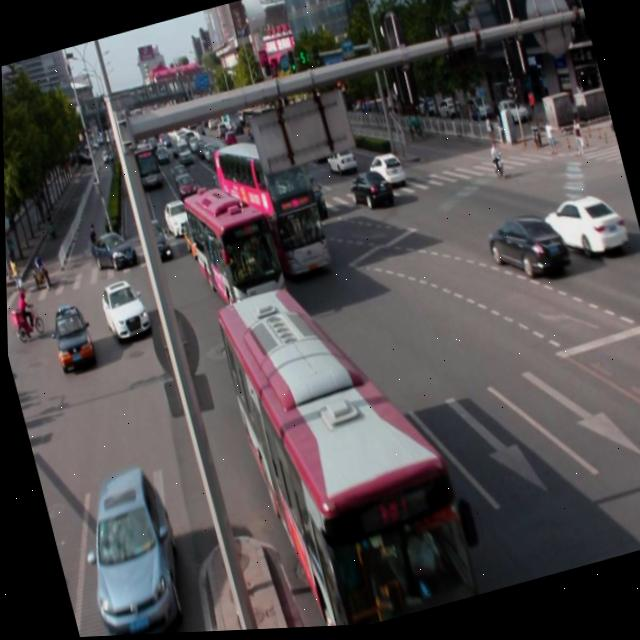car: (66, 462, 194, 638), (480, 208, 569, 292), (537, 191, 627, 271), (96, 275, 151, 343), (345, 168, 392, 217)
van: (211, 254, 477, 633), (210, 128, 329, 289), (181, 177, 287, 320)
